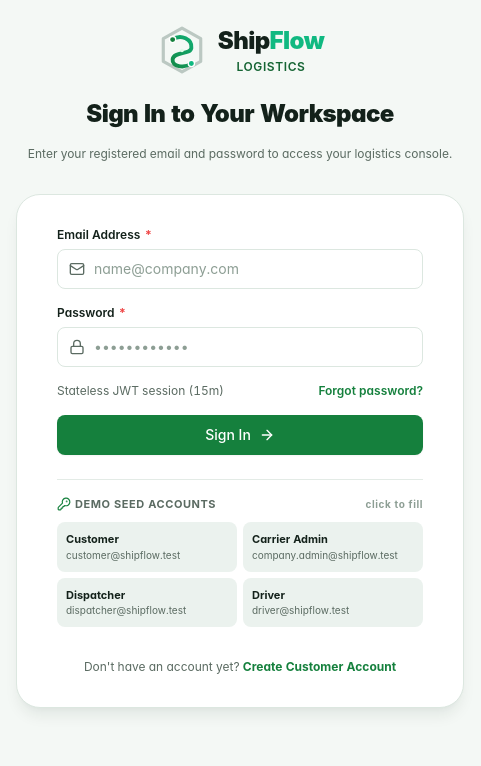
Test: LoginPage › shows validation errors when submitting empty form
The image size is (481, 766).
Click the button "Sign In".
click(240, 435)  # box [57, 415, 423, 455]
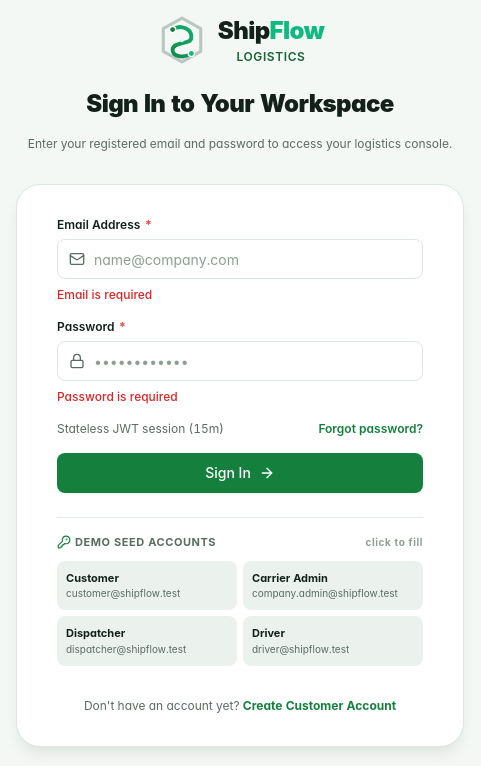
Expected: the text "Email is required" is shown, [57, 287, 152, 302]
Expected: the text "Password is required" is shown, [57, 389, 178, 404]
